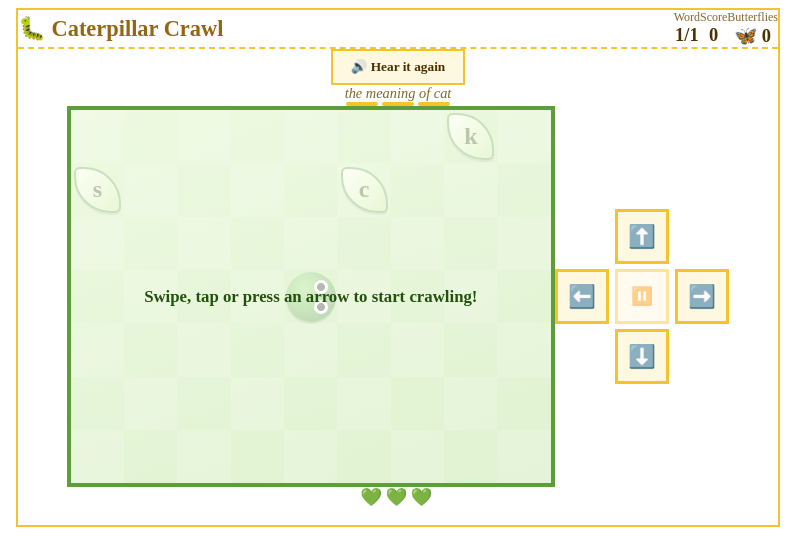
it: Caterpillar Crawl: playing it › stays put while paused
What coordinates should you click on to do the following:
click the button named "Crawl down"
I would click on:
 (642, 357)
Its box is [615,330,669,384].
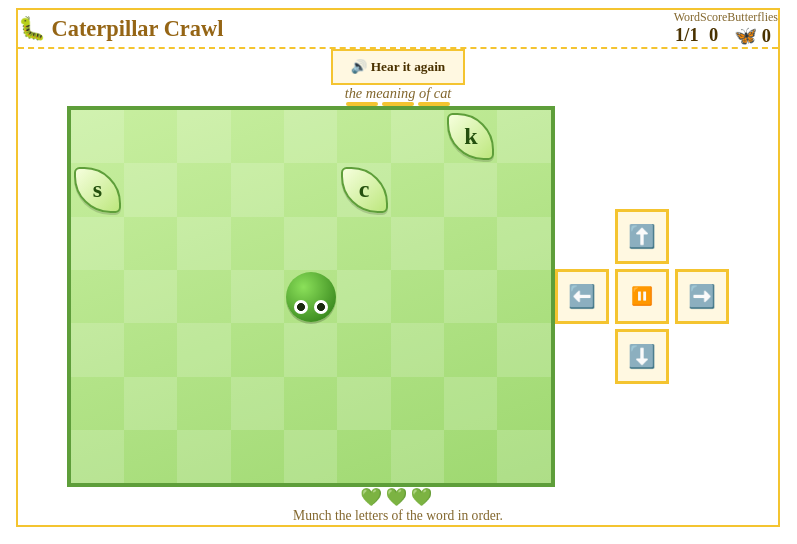
What coordinates should you click on to do the following:
click the button named "Pause"
I would click on:
 (642, 297)
Its box is [615,270,669,324].
Wait 3000 ms
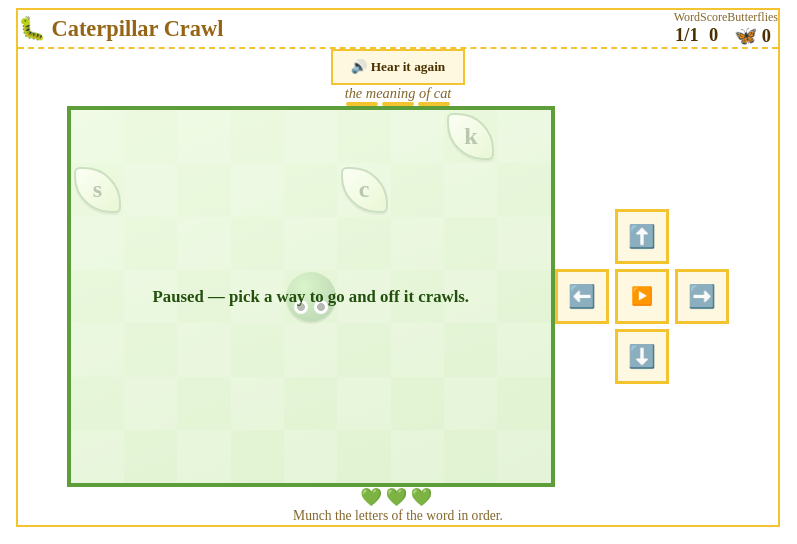
Now the text "Paused — pick a way to go and off it crawls." is shown, box [71,110,551,483]
